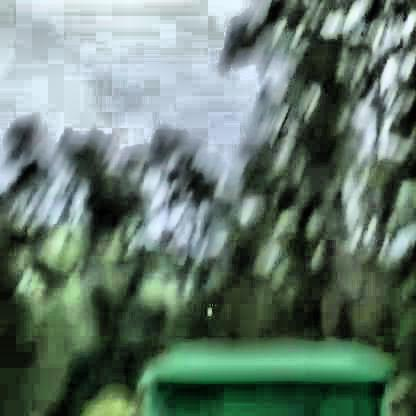golfball: (202, 302, 212, 312)
